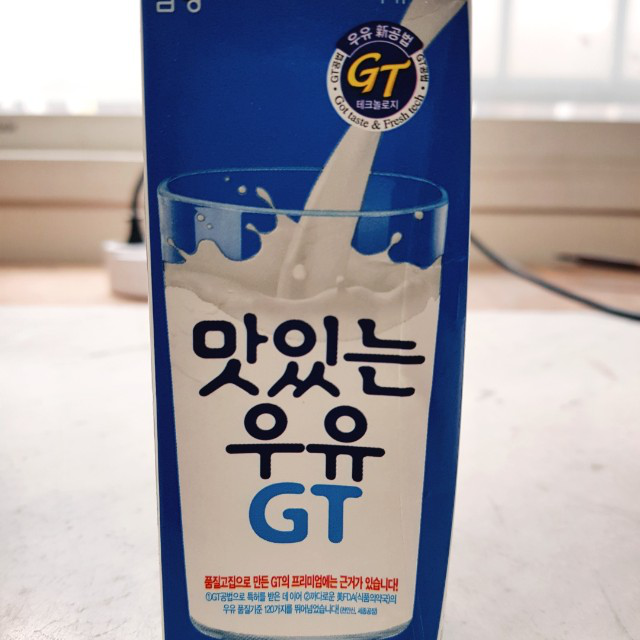milk: (139, 1, 472, 640)
